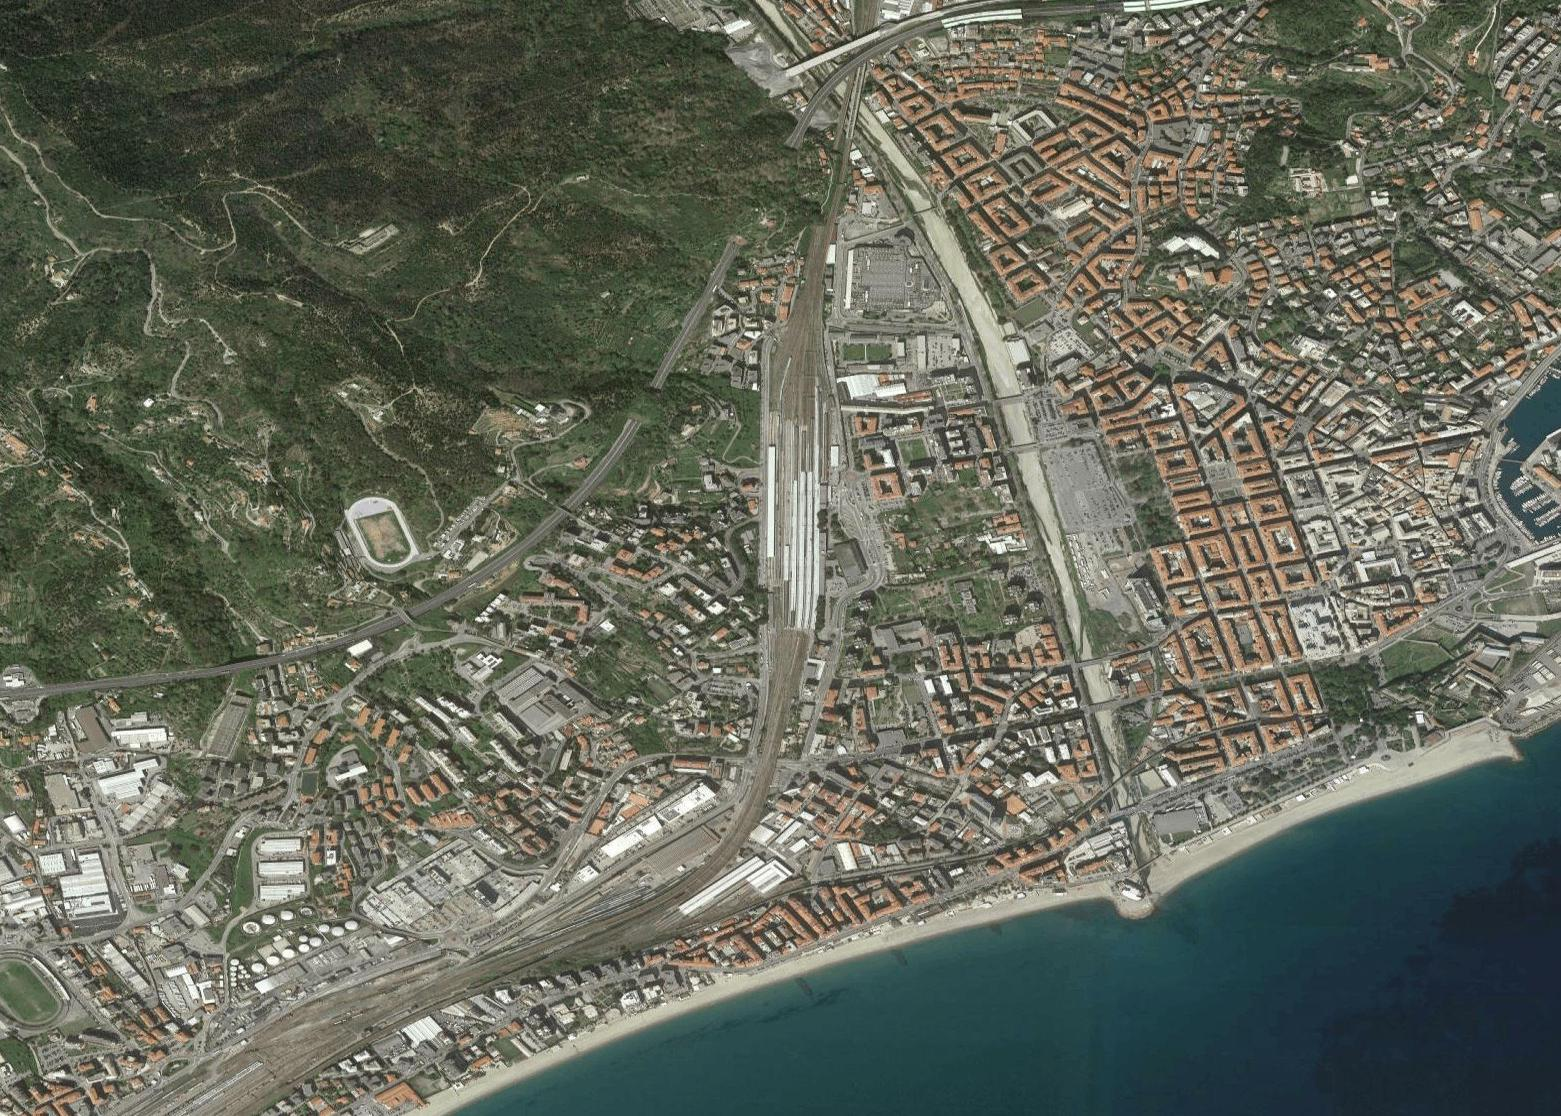bridge: (1085, 694, 1119, 717), (1073, 653, 1106, 669), (1006, 437, 1039, 452), (991, 390, 1024, 405), (909, 203, 942, 217)
motorway: (586, 342, 686, 479), (479, 479, 596, 579), (331, 568, 474, 647), (790, 46, 868, 150), (167, 635, 334, 680), (1, 662, 168, 707), (683, 236, 739, 345)
train_station: (749, 403, 857, 644)
